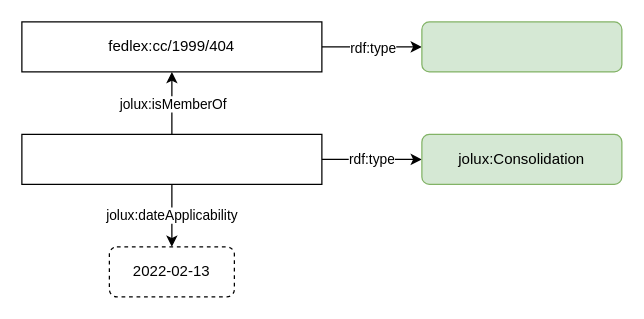
Some shapes in this 644 by 319 pixel diagram are drawn without their labels. Here are the shapes that lost their labels. From the top down, the centre of each, then its label:
At pixel 521 46: "jolux:ConsolidationAbstract".
At pixel 171 158: "fedlex:cc/1999/404/20220213".
